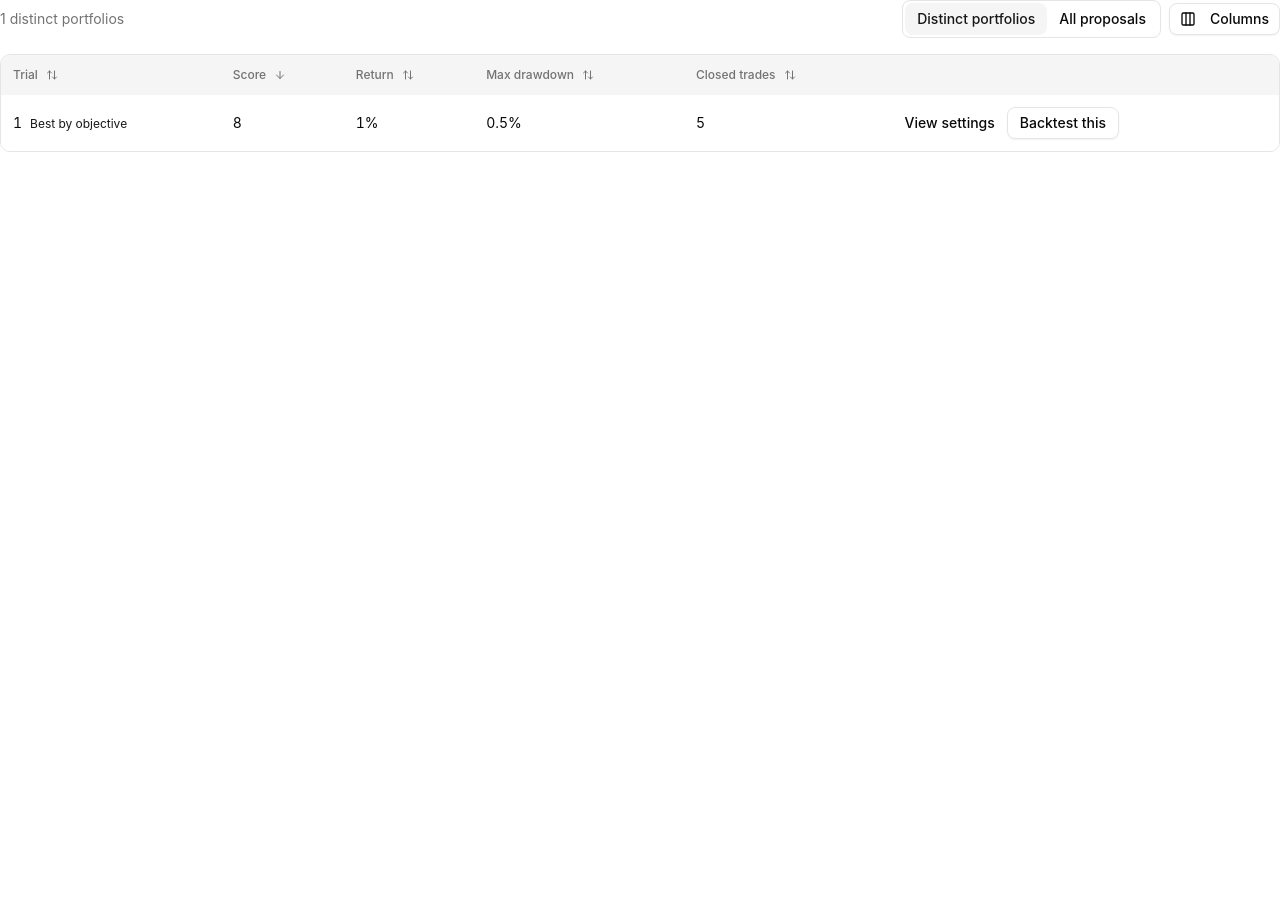
Test: optimization trial comparison › handles older summaries and stale preferences using only fields present in the study
Click the button "Columns" at coordinates (1224, 19), box x1=1169 y1=3 x2=1279 y2=35
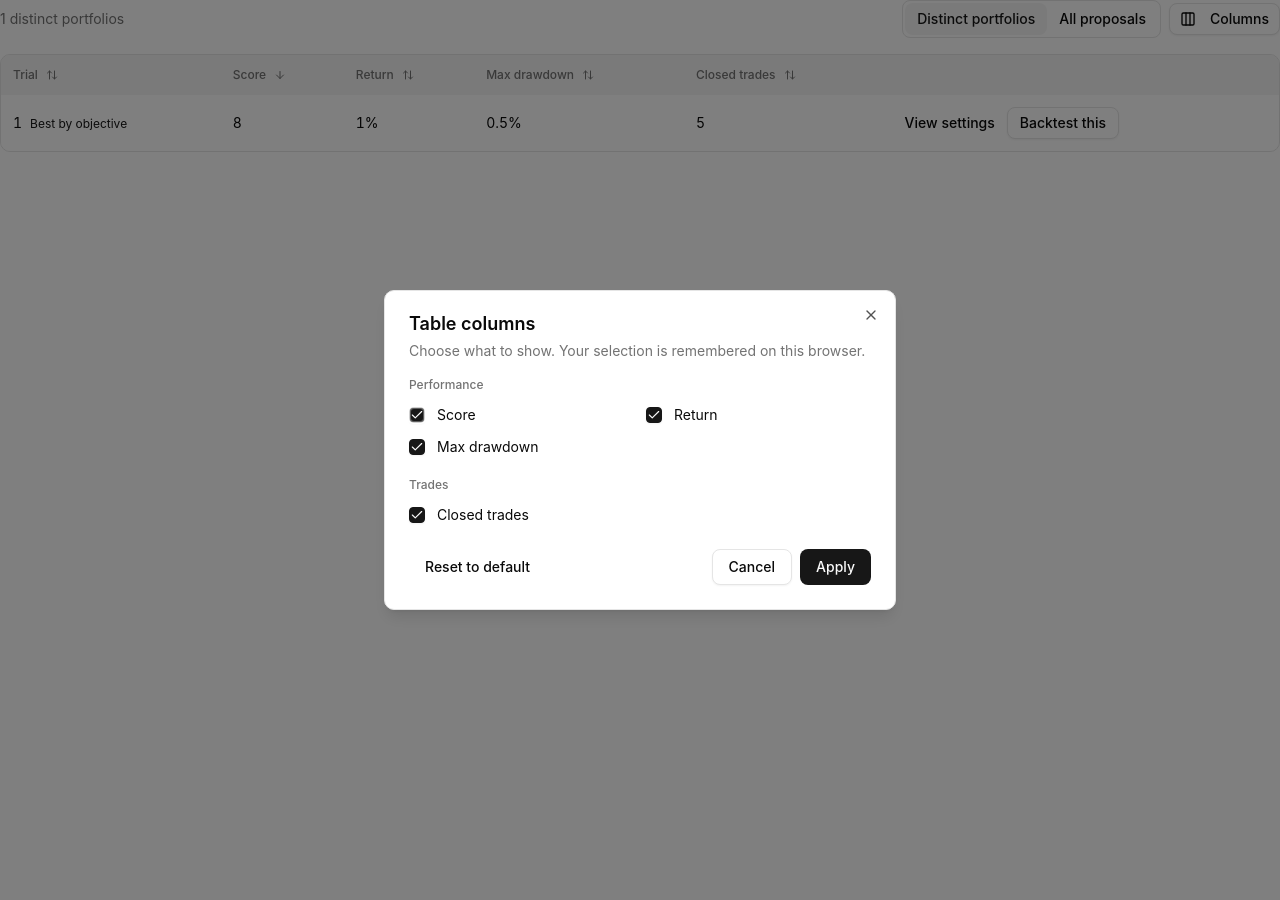
Now the 1st checkbox named "Score" is shown, box x1=409 y1=407 x2=425 y2=423
